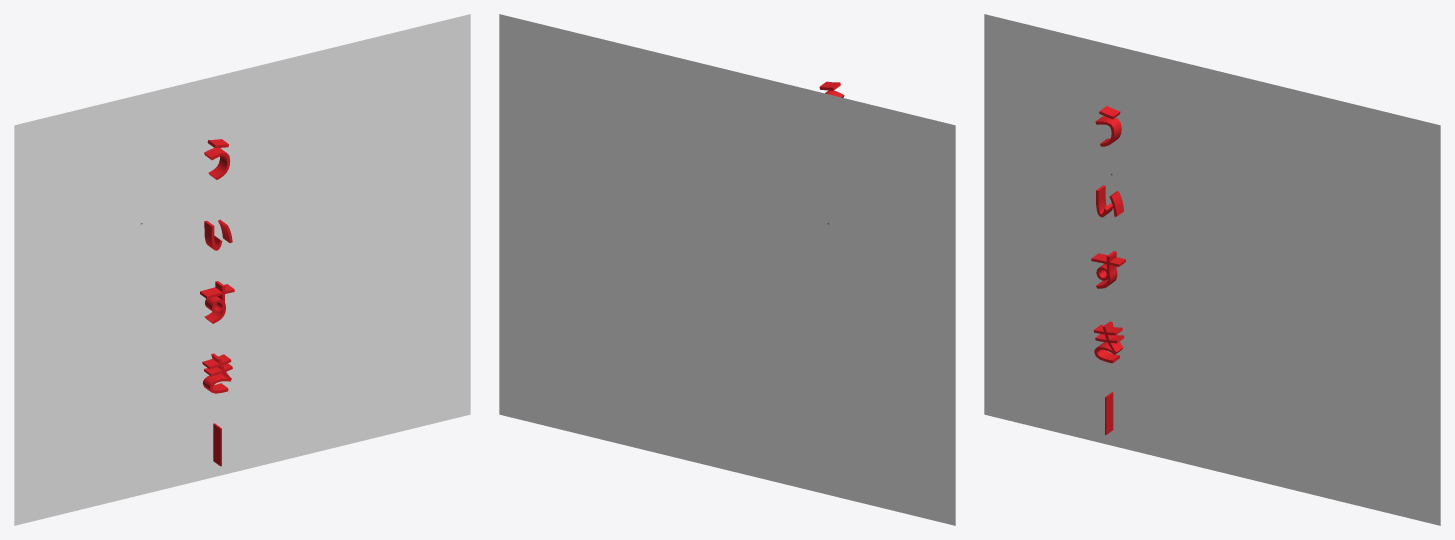
File: whisky_kana.fbx
The picture shows the model from 3 angles, left to right: view 1: azimuth 30°, elevation 25°; view 2: azimuth 150°, elevation 25°; view 3: azimuth 330°, elevation 25°; orthographic projection.
Visible parts, largest first — view 1: root, node_id143 (×4); view 2: root; view 3: root, node_id143 (×4).
Part boxes in pixels (left/top/right/bottom): root: left=14, top=14, right=470, bottom=525; node_id143 (×4): left=200, top=139, right=234, bottom=393; root: left=499, top=14, right=955, bottom=525; root: left=984, top=14, right=1440, bottom=525; node_id143 (×4): left=1091, top=106, right=1125, bottom=363.
Size of the model in its own units: 1.63 by 1.37 by 0.2651.
6 materials, 1 textured.
